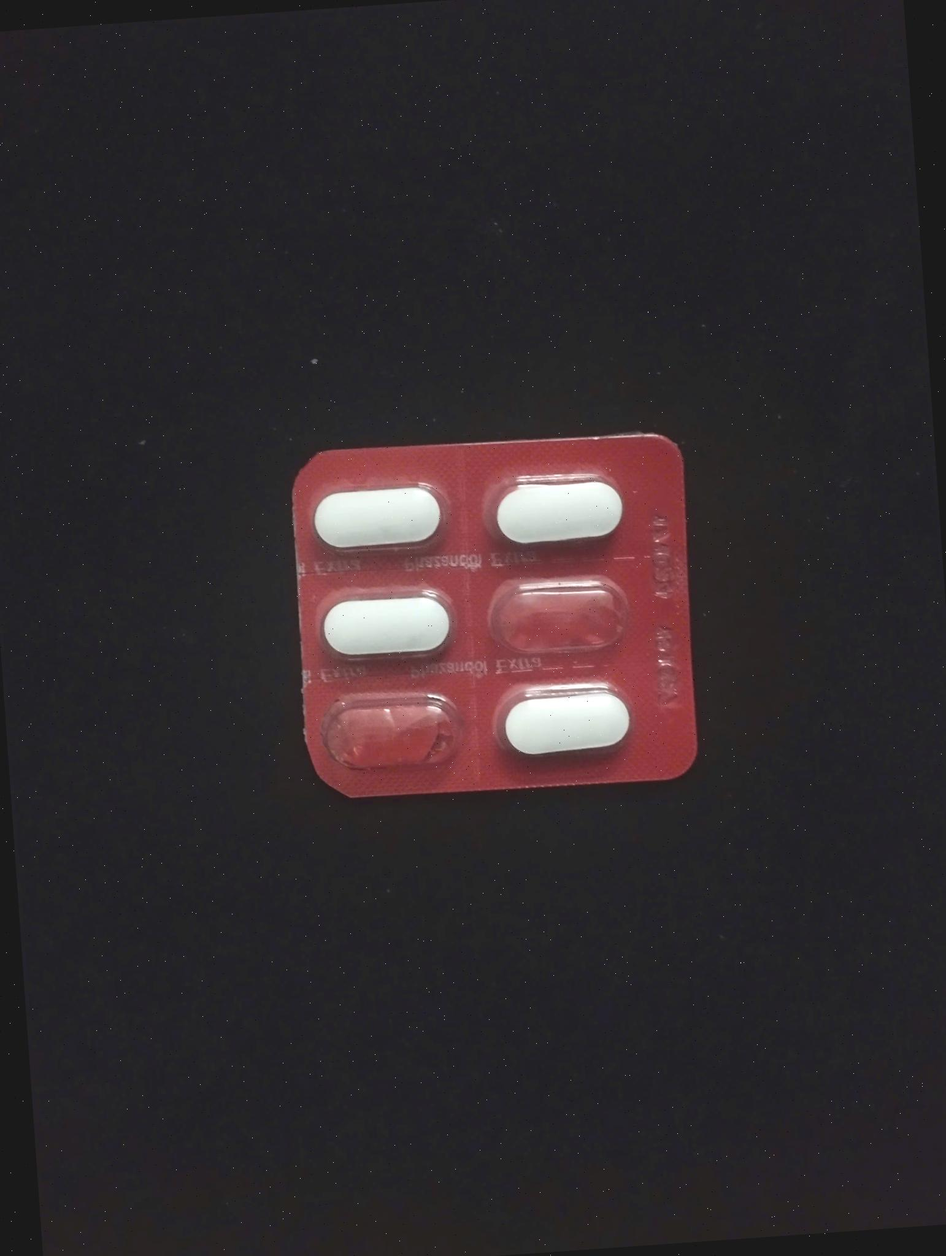Empty: (317, 693, 470, 778), (488, 576, 625, 664)
Full: (317, 583, 456, 678), (486, 465, 629, 556), (307, 472, 443, 562), (501, 681, 639, 767)
